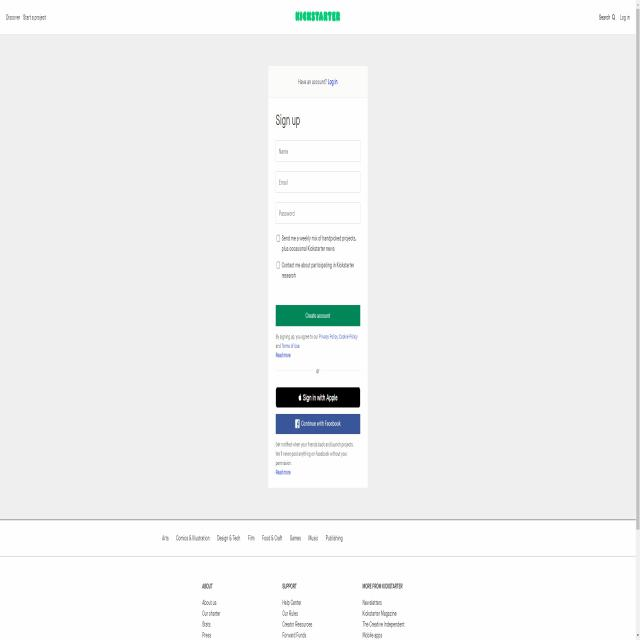menu-bar: (595, 4, 633, 27)
tab-bar: (156, 524, 346, 551)
